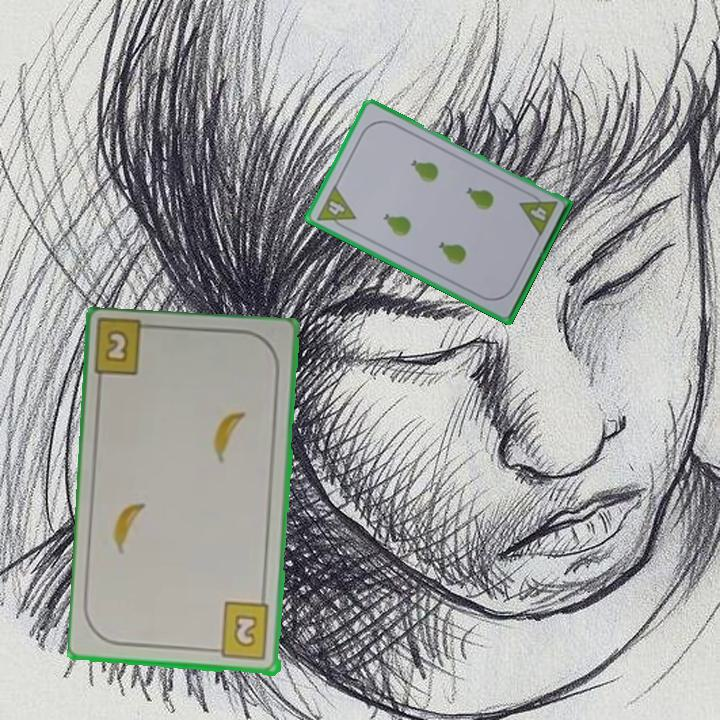2b: (208, 600, 272, 663), (102, 326, 132, 366)
4p: (313, 181, 359, 234), (516, 188, 560, 240)
